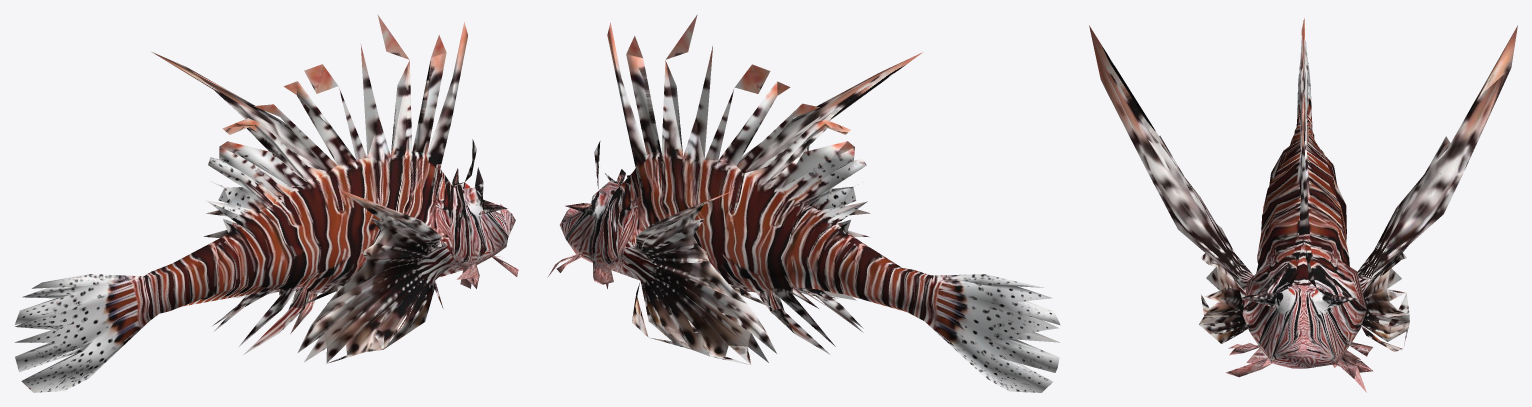
The model's file is pezleon.fbx.
3 views of the same model, side by side, from view 1: azimuth 30°, elevation 25°; view 2: azimuth 150°, elevation 25°; view 3: azimuth 270°, elevation 25° (orthographic). The views are drawn at different scales.
Visible parts, largest first — view 1: pezleon; view 2: pezleon; view 3: pezleon.
Part boxes in pixels (x1=…): pezleon: x1=14, y1=14, x2=518, y2=392; pezleon: x1=547, y1=14, x2=1060, y2=392; pezleon: x1=1089, y1=18, x2=1517, y2=392.
Size of the model in its own units: 0.5 by 0.2883 by 0.3276.
Materials: 1 (1 with a texture image).
